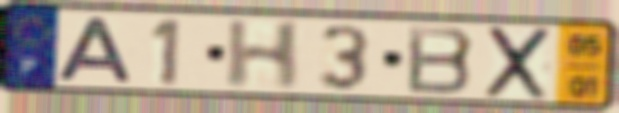1: (149, 16, 183, 87)
3: (316, 24, 372, 92)
A: (53, 15, 137, 85)
B: (404, 23, 478, 97)
H: (223, 19, 306, 91)
X: (481, 24, 555, 102)
